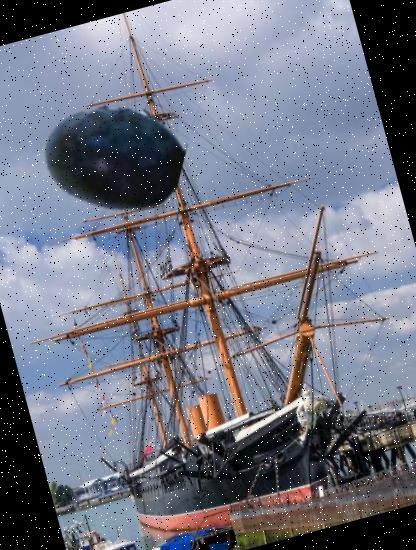Blueberry: (28, 71, 198, 241)
